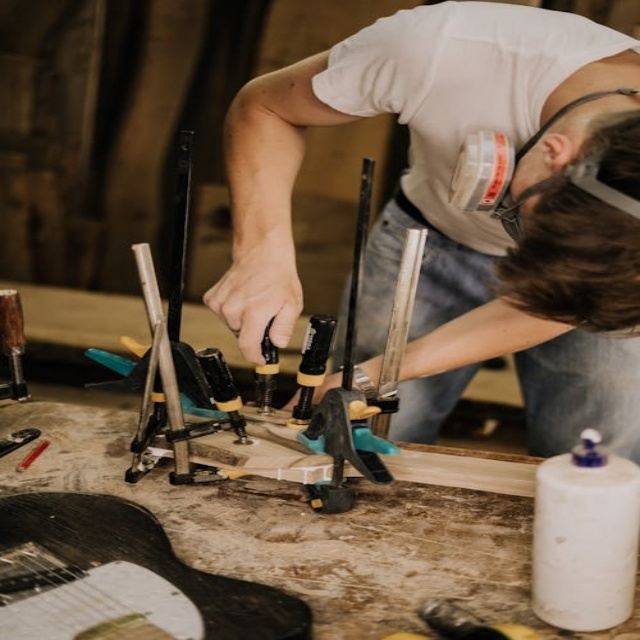Mascara: (447, 122, 580, 283)
Sin_guantes: (201, 252, 303, 364)
